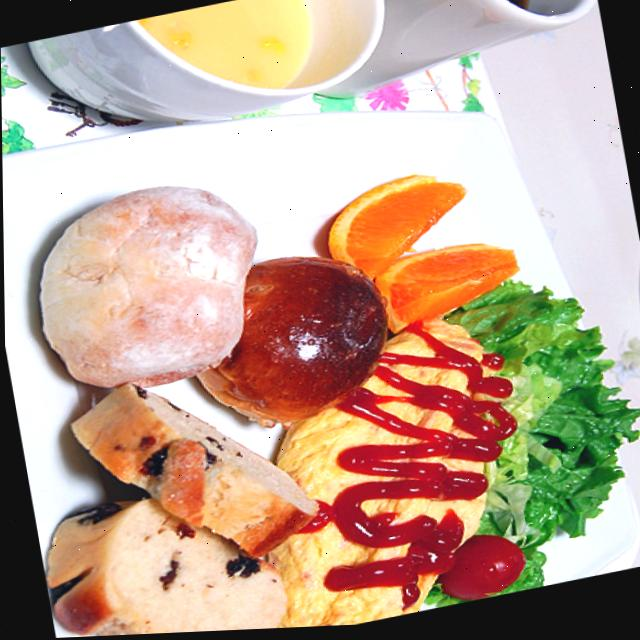鸡蛋料理: (216, 286, 555, 633)
